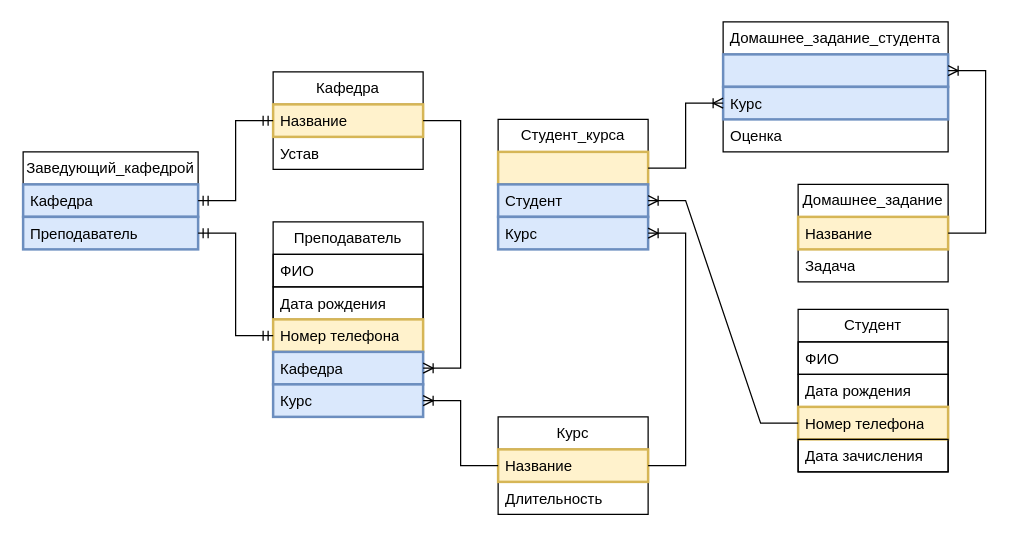
Image size: 1018x540. Some labels were removed from this diagram. The shapes that lost their labels are listed below. From the top down, each one's centre as x and y in pixels, then its label:
(835,70): Домашнее_задание
(572,167): Номер
